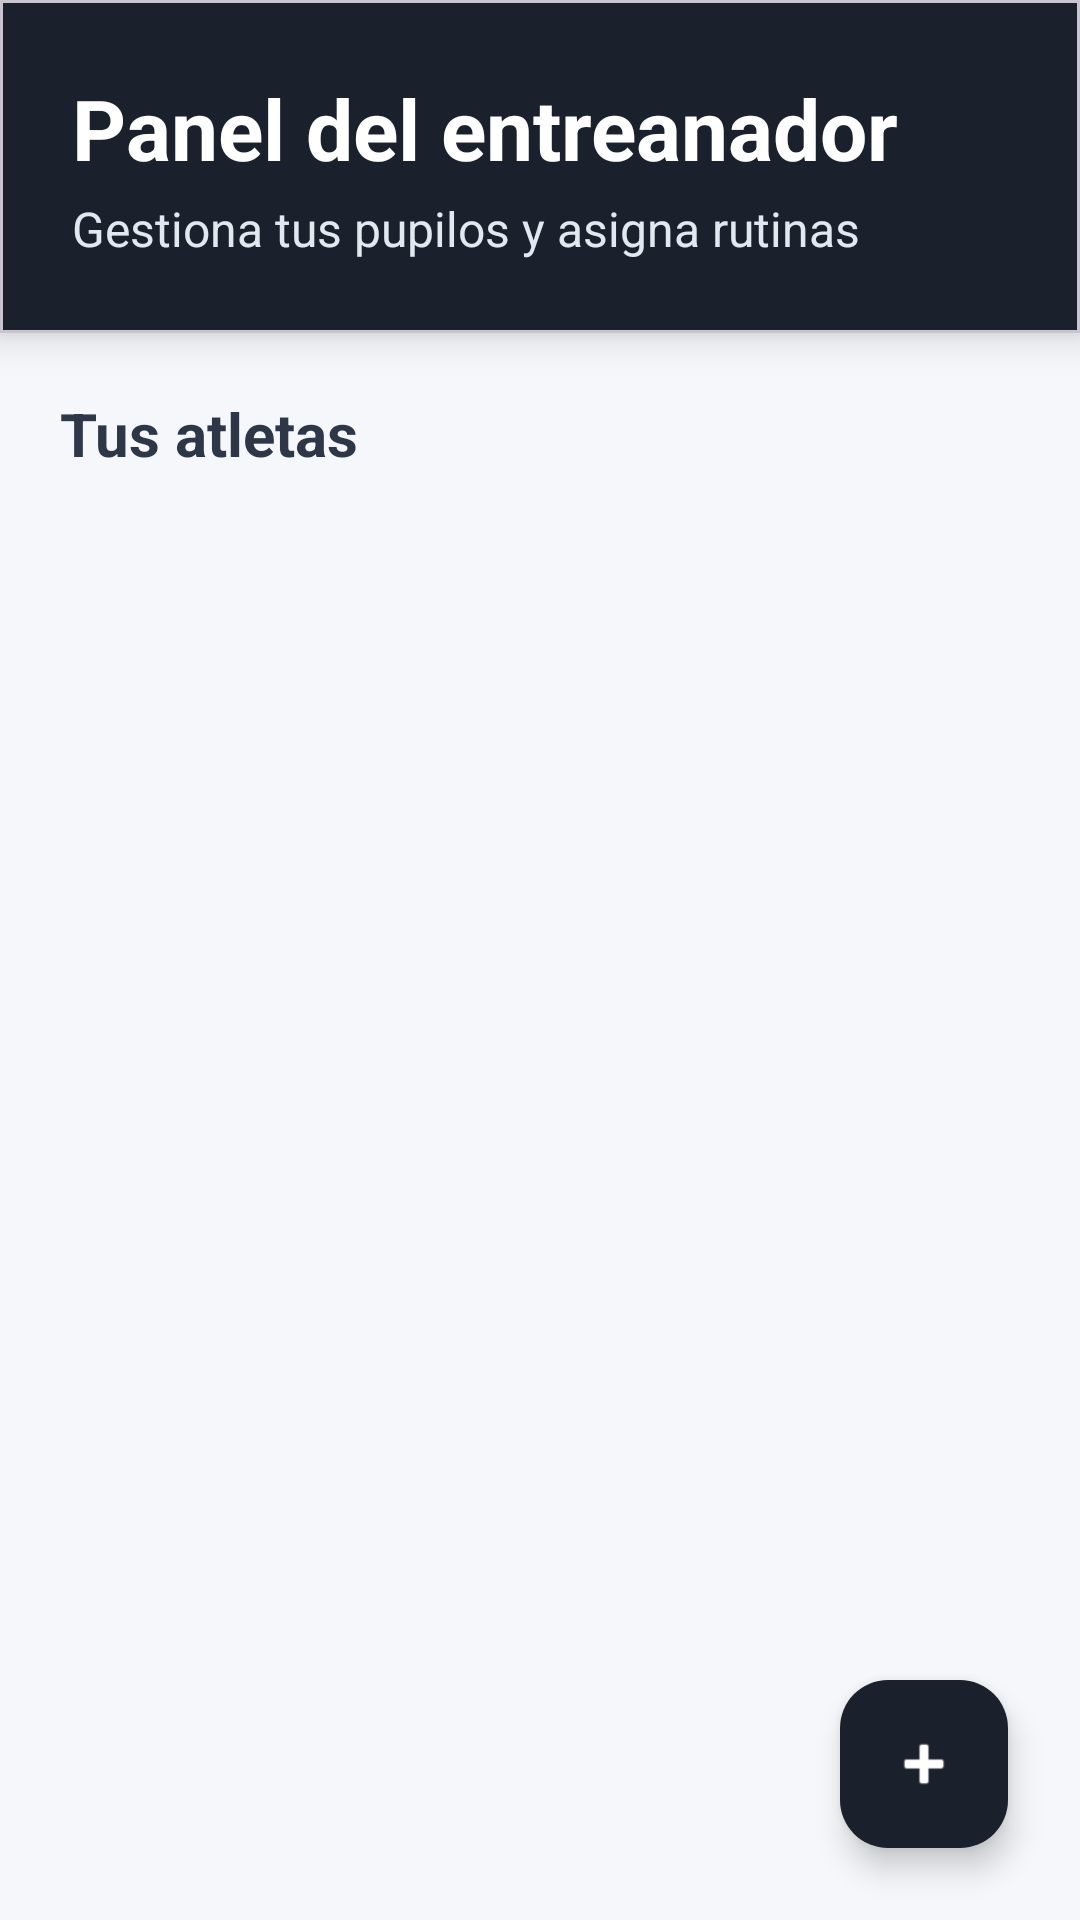

Icons on this 1080x1920 Android screen, each with the point to tap as (x=x, y=y):
Añadir pupilo: (x=924, y=1764)
